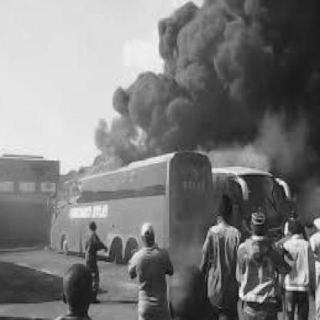Fire: (43, 108, 163, 216)
Smoke: (143, 1, 320, 151)
